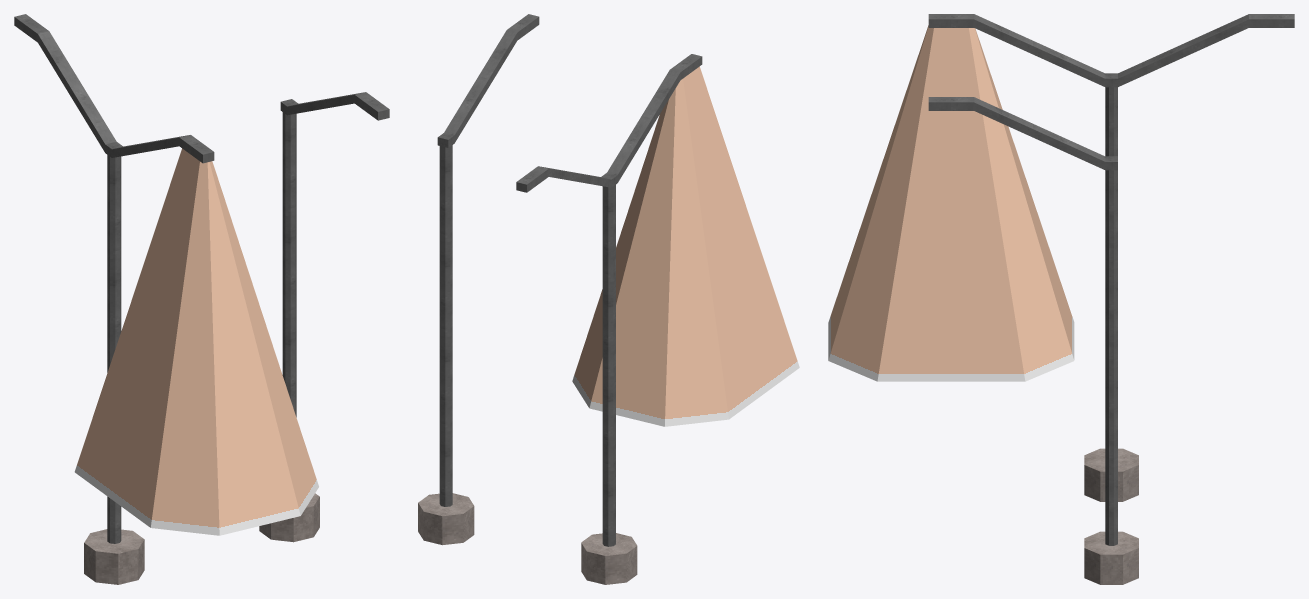
File: StreetLightKit.fbx
3 renders of one model, left to right at view 1: azimuth 30°, elevation 25°; view 2: azimuth 150°, elevation 25°; view 3: azimuth 270°, elevation 25°, orthographic. The views are drawn at different scales.
Parts seen in each view (by area): view 1: LightCone, StreetLightDouble, StreetLightSingle; view 2: LightCone, StreetLightDouble, StreetLightSingle; view 3: LightCone, StreetLightSingle, StreetLightDouble.
Boxes of the visible parts, x1=… form: LightCone: x1=74, y1=148, x2=318, y2=535; StreetLightDouble: x1=14, y1=14, x2=214, y2=584; StreetLightSingle: x1=259, y1=92, x2=389, y2=542; LightCone: x1=572, y1=66, x2=799, y2=426; StreetLightDouble: x1=516, y1=54, x2=702, y2=584; StreetLightSingle: x1=418, y1=14, x2=539, y2=545; LightCone: x1=828, y1=25, x2=1074, y2=381; StreetLightSingle: x1=928, y1=97, x2=1138, y2=584; StreetLightDouble: x1=928, y1=14, x2=1294, y2=501.
Bounding box in the file's own units: 1458 × 2394 × 2135.
